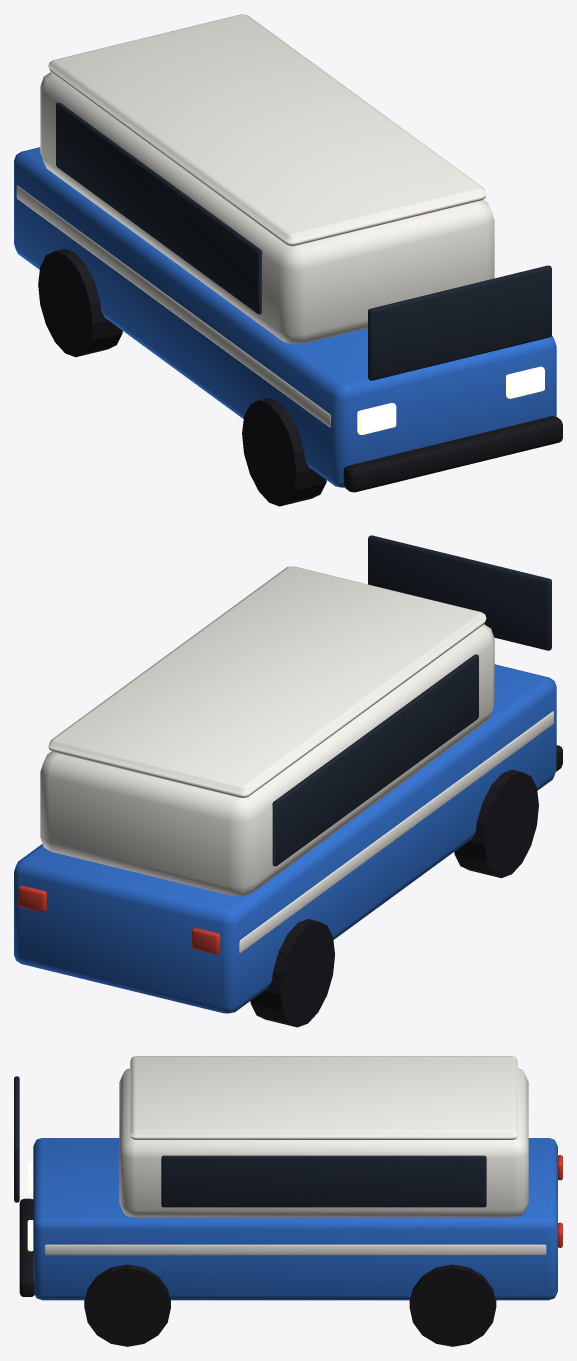
File: angkot.glb
3 views of the same model, one above another, from view 1: azimuth 30°, elevation 25°; view 2: azimuth 150°, elevation 25°; view 3: azimuth 270°, elevation 25° (orthographic). The views are drawn at different scales.
Parts seen in each view (by area): view 1: EX_AK_Putih, EX_AK_Badan, EX_AK_Kaca, EX_AK_Ban, EX_AK_Lampu; view 2: EX_AK_Putih, EX_AK_Badan, EX_AK_Kaca, EX_AK_Ban, EX_AK_Merah; view 3: EX_AK_Putih, EX_AK_Badan, EX_AK_Kaca, EX_AK_Ban, EX_AK_Lampu.
Part boxes in pixels (left/top/right/bottom): EX_AK_Putih: left=16, top=14, right=494, bottom=427; EX_AK_Badan: left=14, top=147, right=556, bottom=487; EX_AK_Kaca: left=56, top=102, right=551, bottom=380; EX_AK_Ban: left=38, top=248, right=562, bottom=506; EX_AK_Lampu: left=357, top=366, right=544, bottom=434; EX_AK_Putih: left=40, top=566, right=553, bottom=953; EX_AK_Badan: left=14, top=664, right=556, bottom=1013; EX_AK_Kaca: left=272, top=535, right=551, bottom=866; EX_AK_Ban: left=250, top=745, right=562, bottom=1027; EX_AK_Merah: left=18, top=885, right=220, bottom=954; EX_AK_Putih: left=44, top=1056, right=546, bottom=1255; EX_AK_Badan: left=33, top=1138, right=557, bottom=1300; EX_AK_Kaca: left=14, top=1076, right=486, bottom=1207; EX_AK_Ban: left=19, top=1198, right=496, bottom=1346; EX_AK_Lampu: left=27, top=1162, right=33, bottom=1251.
Size of the model in its own units: 1.96 by 2 by 4.81.
